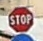stop: (7, 6, 34, 32)
